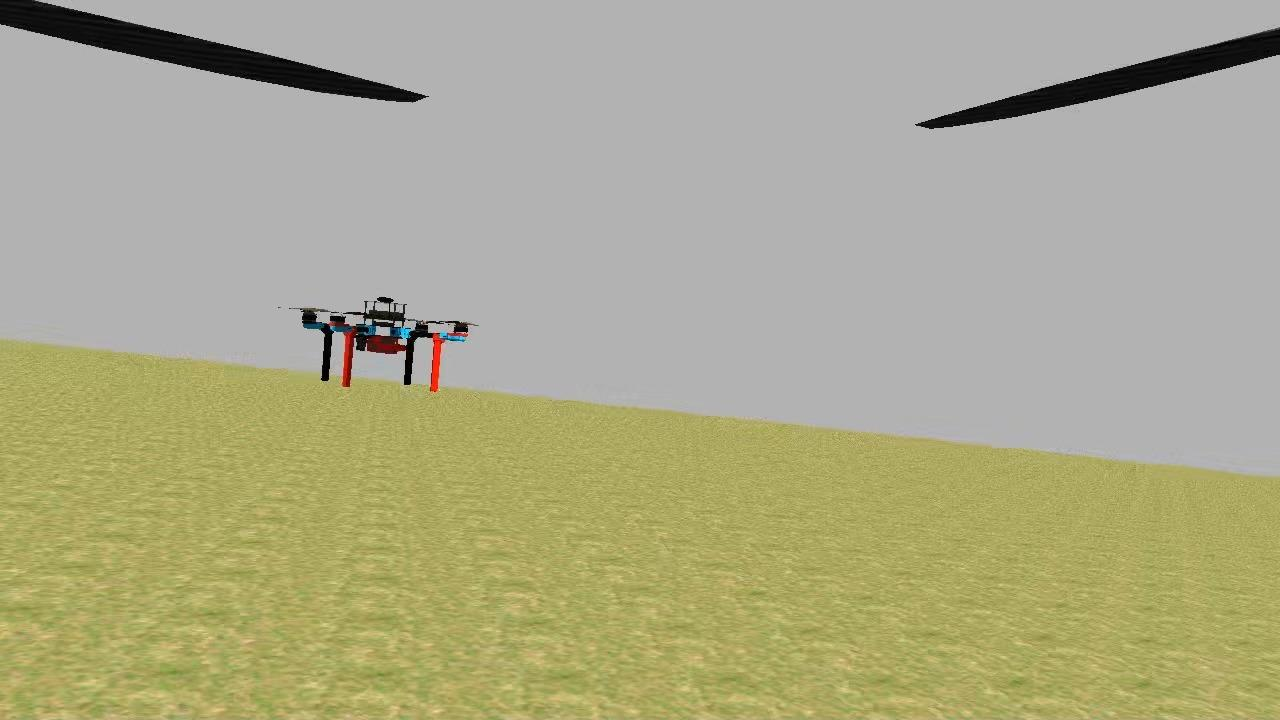UAV: (289, 287, 484, 396)
